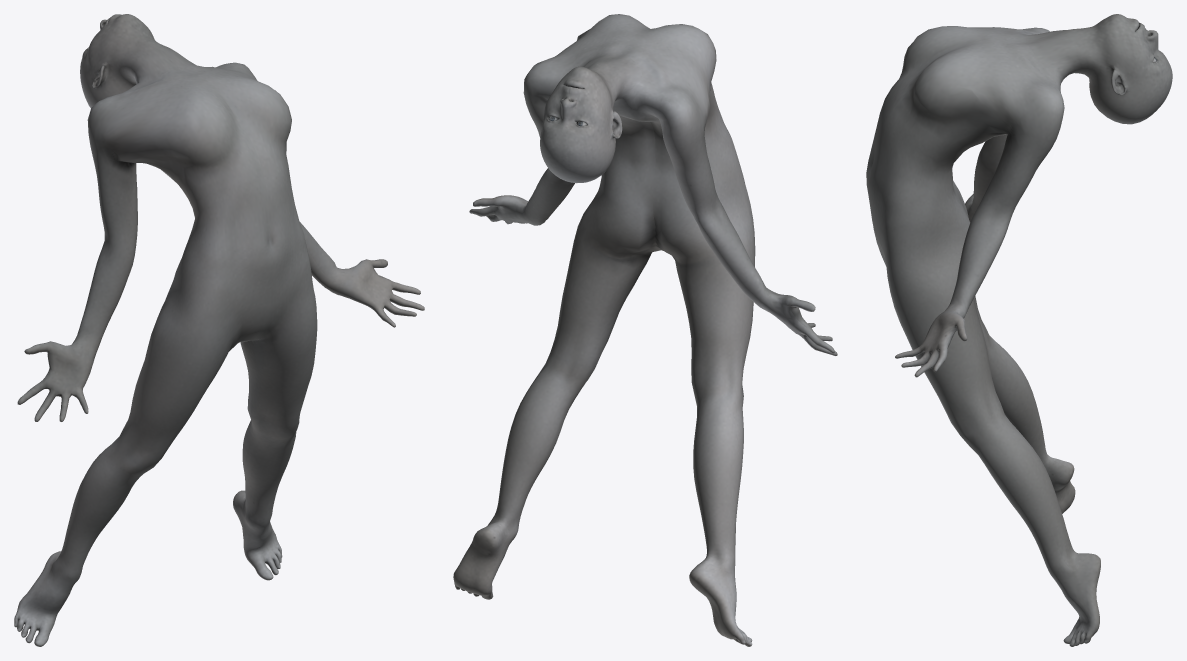
The model's file is female_dynamic.glb.
3 views of the same model, side by side, from view 1: azimuth 30°, elevation 25°; view 2: azimuth 150°, elevation 25°; view 3: azimuth 270°, elevation 25° (orthographic).
Parts seen in each view (by area): view 1: female_dynamic; view 2: female_dynamic; view 3: female_dynamic.
Part boxes in pixels (box(x1,y1,x2,y2)): female_dynamic: box(14, 14, 424, 646); female_dynamic: box(453, 14, 837, 646); female_dynamic: box(866, 14, 1172, 646).
Size of the model in its own units: 0.9441 by 1.35 by 0.6578.
Materials: 1 (1 with a texture image).
